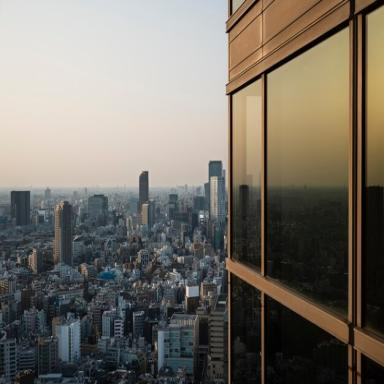glass_panel: (269, 29, 349, 320), (266, 296, 347, 383), (364, 5, 384, 337), (235, 77, 262, 273), (231, 277, 260, 382), (361, 352, 383, 383)
